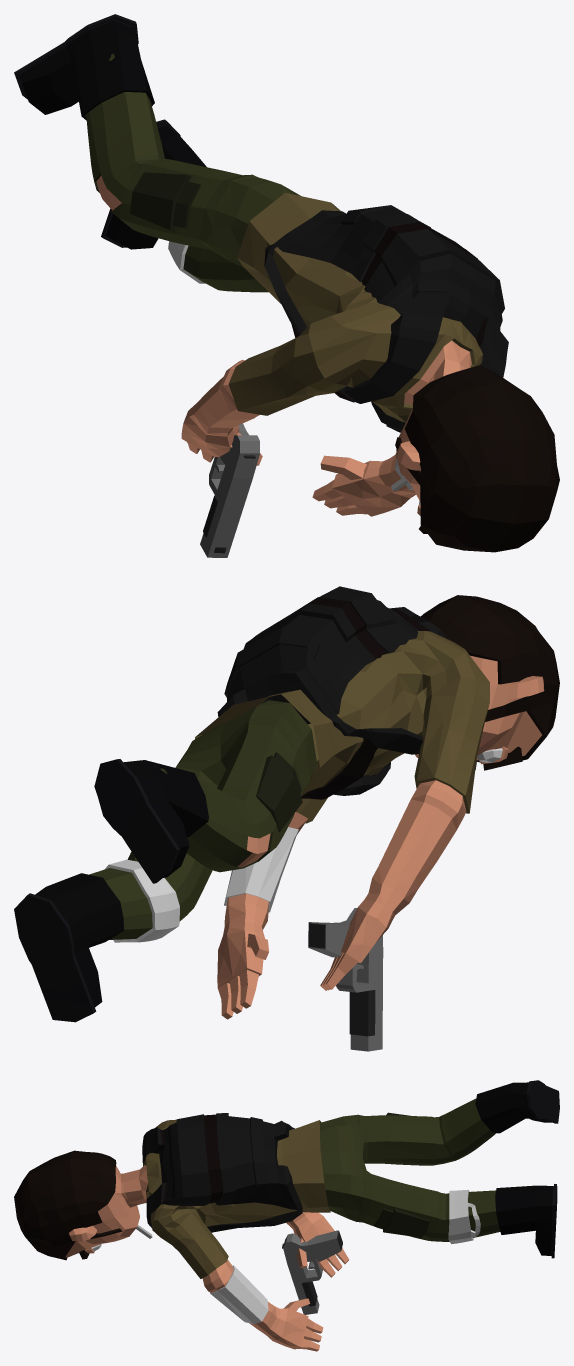
Rendered from frame_0014.obj.
The picture shows the model from 3 angles, top to bottom: view 1: azimuth 30°, elevation 25°; view 2: azimuth 150°, elevation 25°; view 3: azimuth 270°, elevation 25°; orthographic projection. The views are drawn at different scales.
Parts seen in each view (by area): view 1: Body, Gun; view 2: Body, Gun; view 3: Body, Gun.
Part boxes in pixels (left/top/right/bottom): Body: left=14, top=14, right=559, bottom=552; Gun: left=200, top=423, right=259, bottom=557; Body: left=14, top=586, right=559, bottom=1022; Gun: left=308, top=908, right=383, bottom=1051; Body: left=14, top=1080, right=559, bottom=1351; Gun: left=282, top=1230, right=342, bottom=1314.
Bounding box in the file's own units: 1.32 × 2.13 × 4.14.
